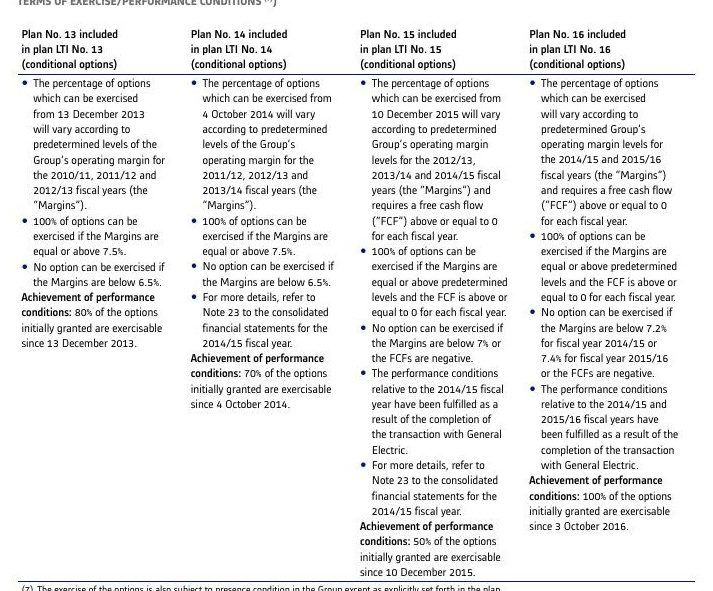table: (0, 0, 713, 591)
